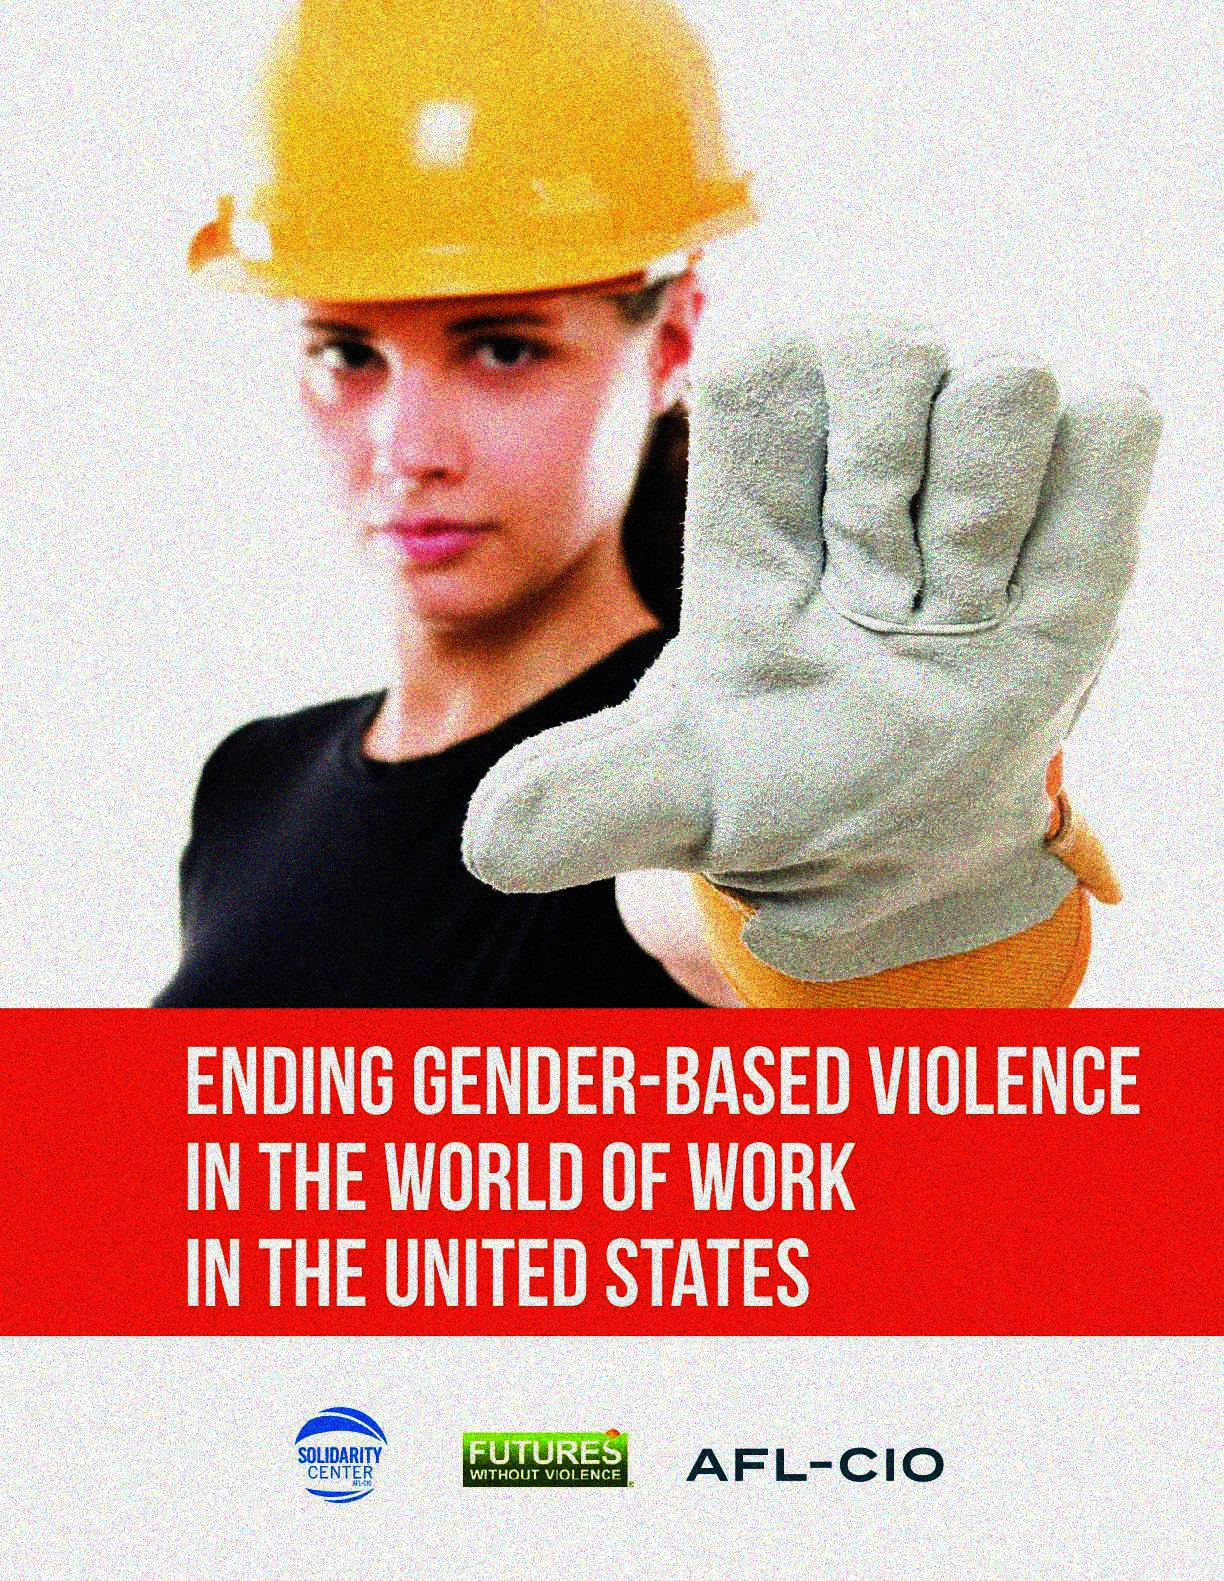helmet: (183, 1, 758, 631)
